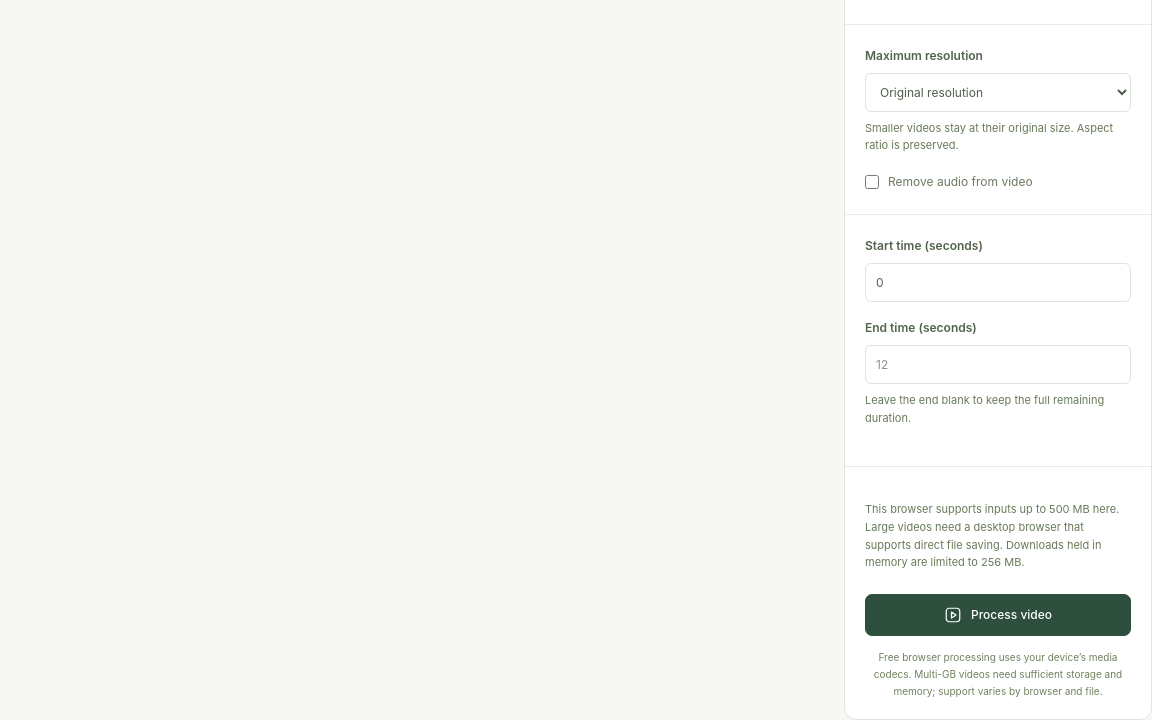
Scenario: reports actual output sizes and clears obsolete results when settings change
Earlier steps of the test are not shown.
(page scrolled)
Click the button "Process video" at (998, 615), box [865,594,1131,636]
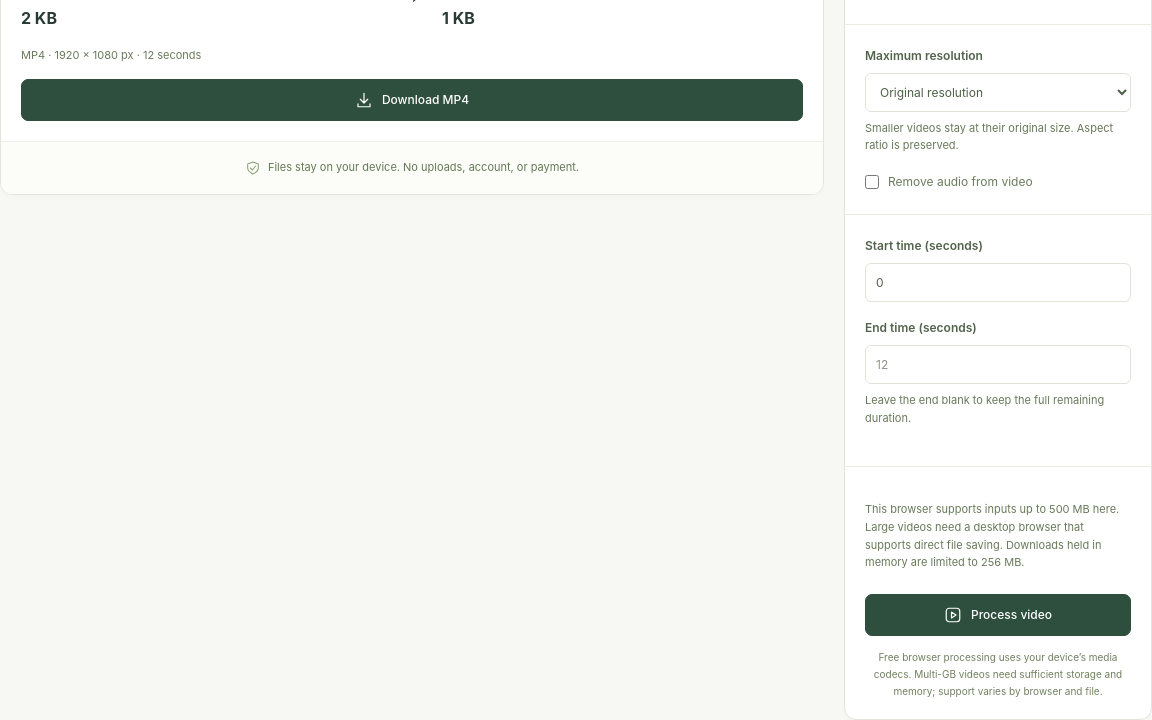
Now the text "1 KB" is shown, box [442,8,475,28]
Select "HD · 720p" in the dropdown labelled "Maximum resolution" at (998, 92), box [865,73,1131,112]
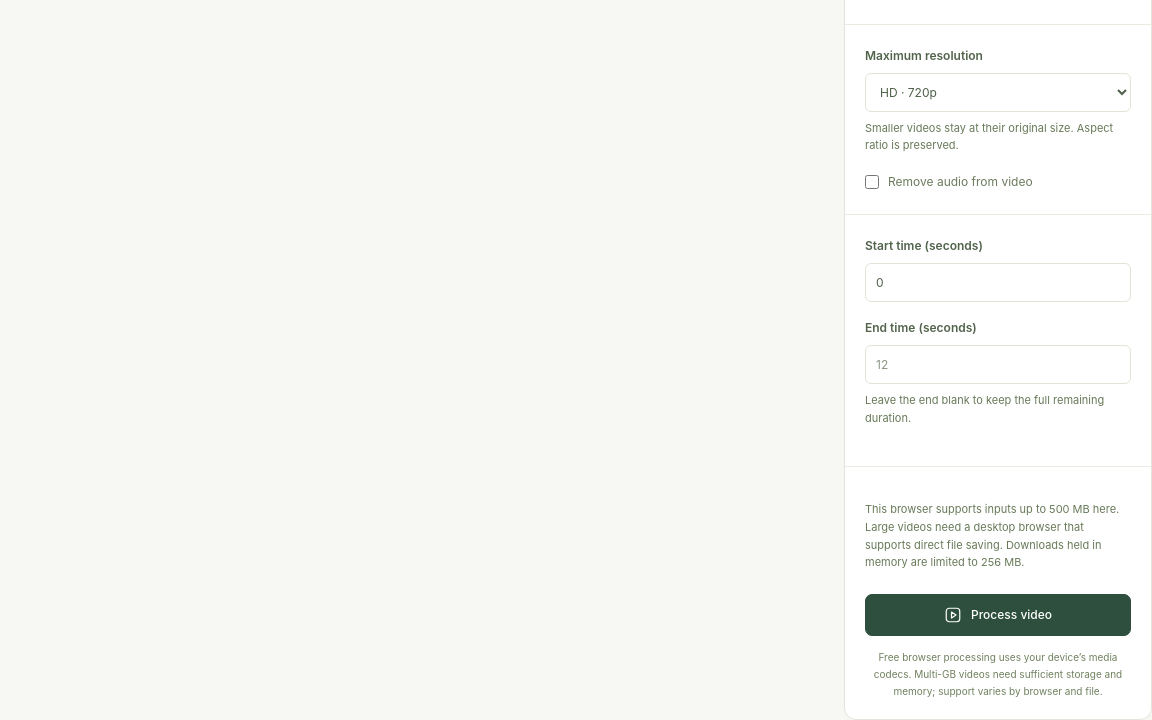
Now the link "Download MP4" is gone
